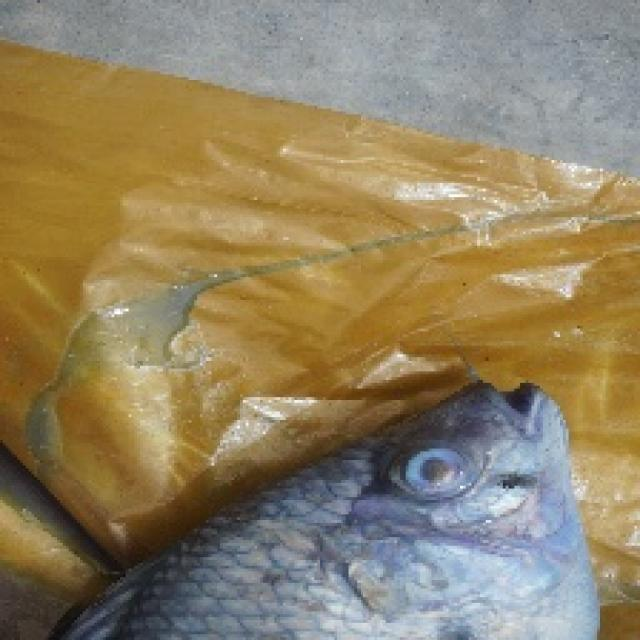Non-Fresh: (390, 426, 482, 520)
